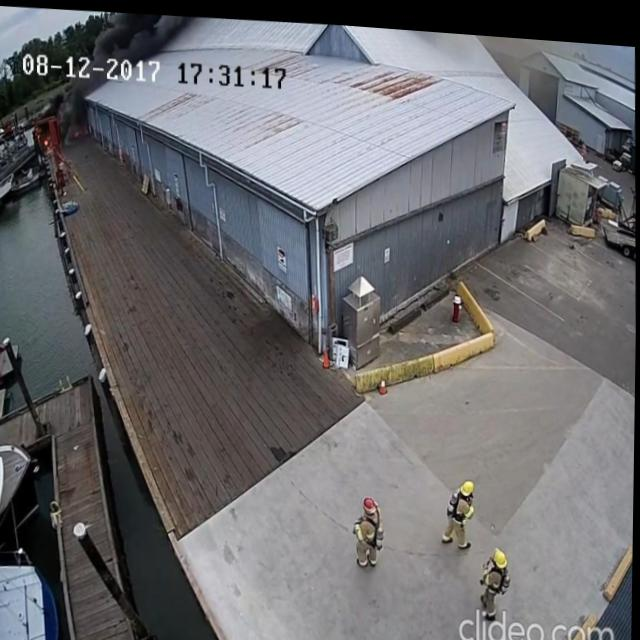fire: (42, 136, 50, 147)
